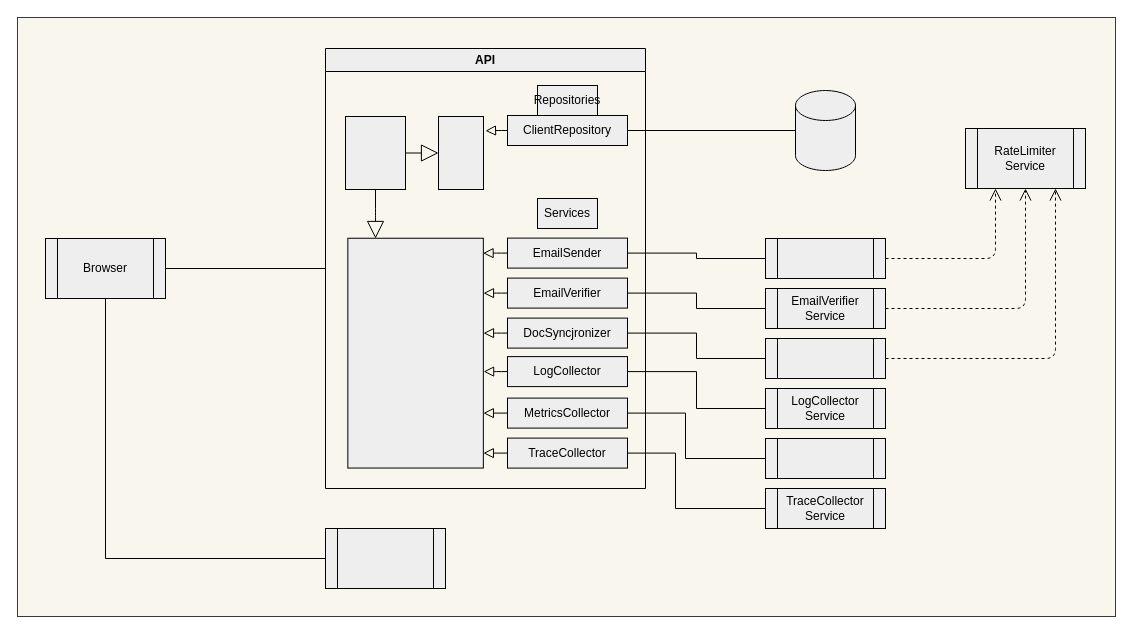
Some shapes in this 1133 by 634 pixel diagram are drawn without their labels. The shapes that lost their labels are listed below. From the top down, each one's box as (x1, y1, x2, y2) in pixels, then its label:
(794, 90, 856, 170): Storage
(344, 116, 406, 190): Controller
(438, 116, 484, 190): Repository Interfaces
(764, 238, 886, 278): EmailSender Service
(347, 237, 483, 468): Service Interfaces
(764, 338, 886, 378): DocSynchronizer Service
(764, 438, 886, 478): MetricsCollector Service
(324, 528, 446, 588): Frontend Service
